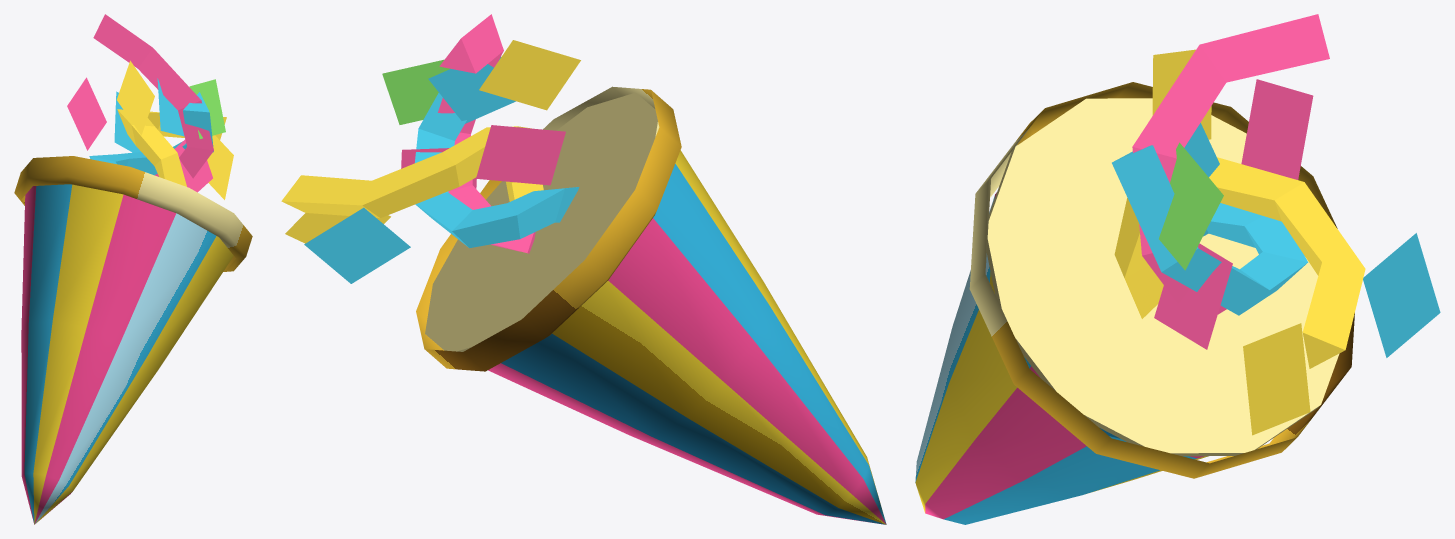
Rendered from fun-partyPopper.glb.
3 views of the same model, side by side, from view 1: azimuth 30°, elevation 25°; view 2: azimuth 150°, elevation 25°; view 3: azimuth 270°, elevation 25° (orthographic). The views are drawn at different scales.
Parts seen in each view (by area): view 1: fun.partyPopper; view 2: fun.partyPopper; view 3: fun.partyPopper.
Part boxes in pixels (<box>): fun.partyPopper: <box>14,14,252,524</box>; fun.partyPopper: <box>281,14,886,524</box>; fun.partyPopper: <box>915,14,1440,524</box>.
Bounding box in the file's own units: 1.15 × 1.34 × 0.9757.
9 materials, 4 textured.
